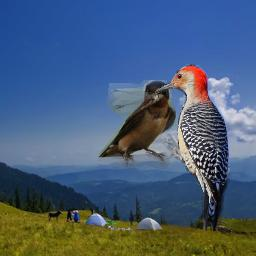Swallow: (98, 80, 176, 169)
Woodpecker: (155, 64, 230, 231)
